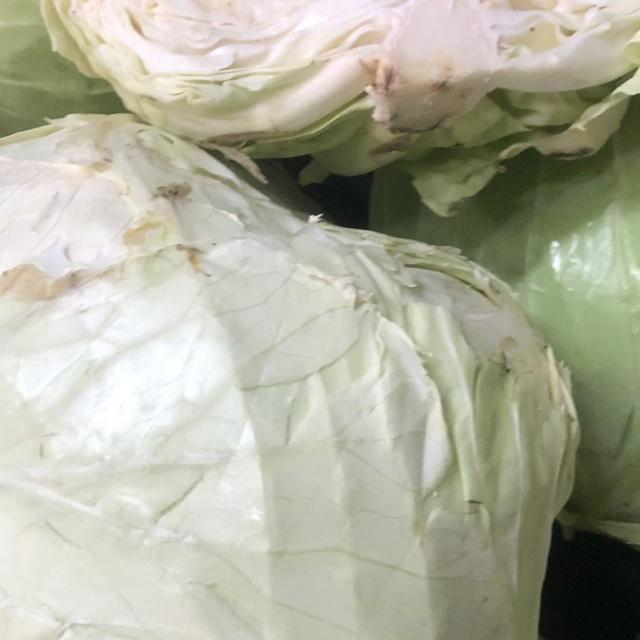cabbage: (0, 85, 595, 640), (17, 0, 640, 192)
